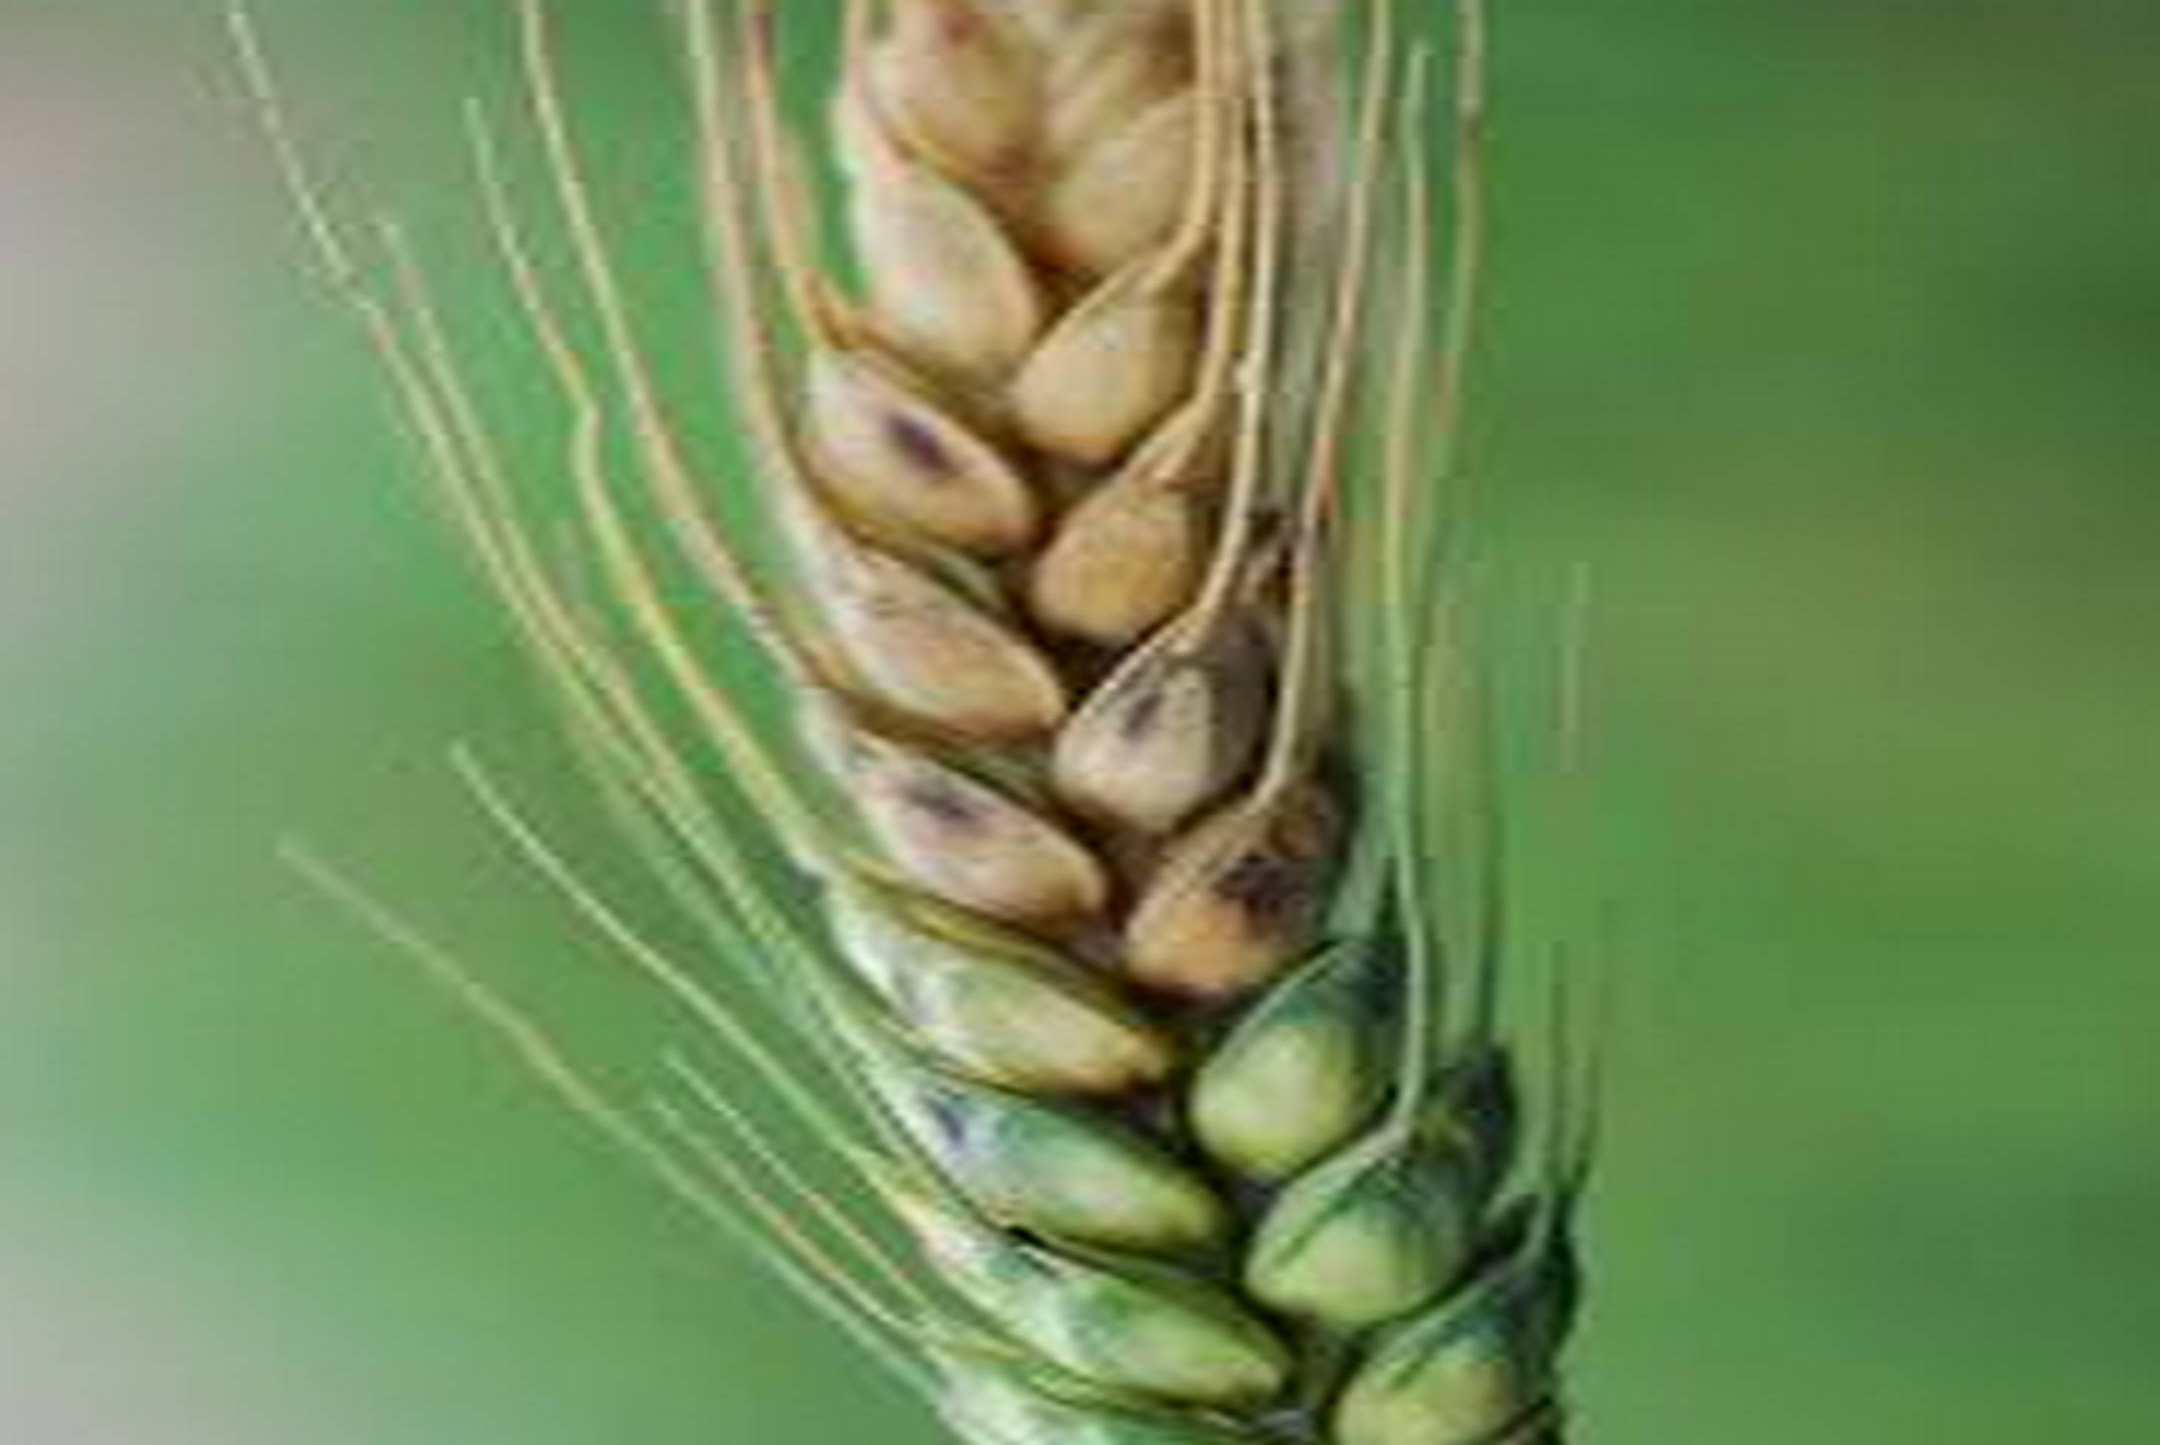Wheat scab: (692, 31, 1604, 1445)
